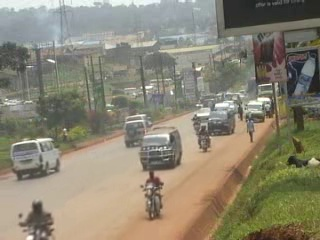Car: (118, 118, 154, 150), (194, 106, 212, 120)
Motorcycle: (16, 195, 59, 236), (139, 169, 165, 221), (194, 123, 214, 151), (188, 112, 202, 135)
